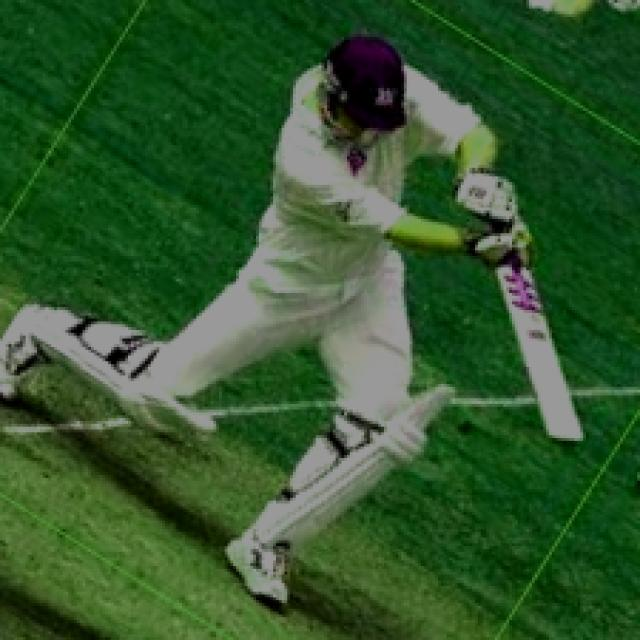toe: (534, 370, 586, 456)
